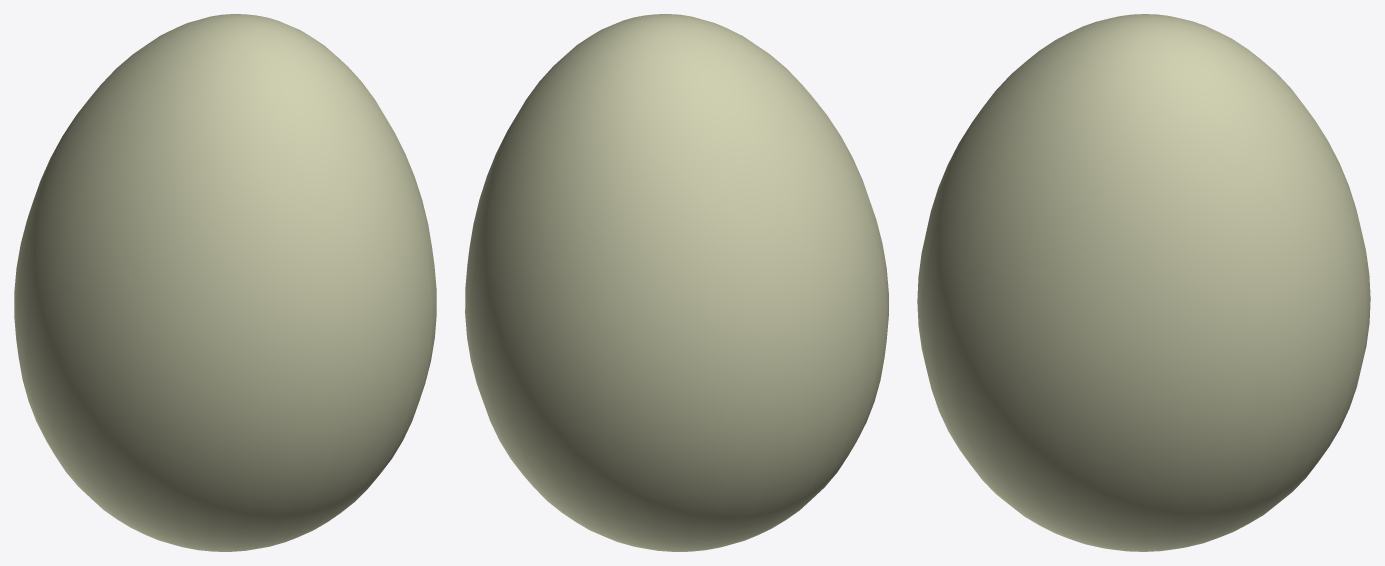
File: slingshot_projectile.glb
3 renders of one model, left to right at view 1: azimuth 30°, elevation 25°; view 2: azimuth 150°, elevation 25°; view 3: azimuth 270°, elevation 25°, orthographic. The views are drawn at different scales.
Visible parts, largest first — view 1: Sphere.001; view 2: Sphere.001; view 3: Sphere.001.
Part boxes in pixels (bbox=[...]): Sphere.001: bbox=[14, 14, 436, 551]; Sphere.001: bbox=[465, 14, 888, 551]; Sphere.001: bbox=[917, 14, 1370, 551].
Bounding box in the file's own units: 0.5127 × 0.6785 × 0.5392.
1 material, 1 textured.
